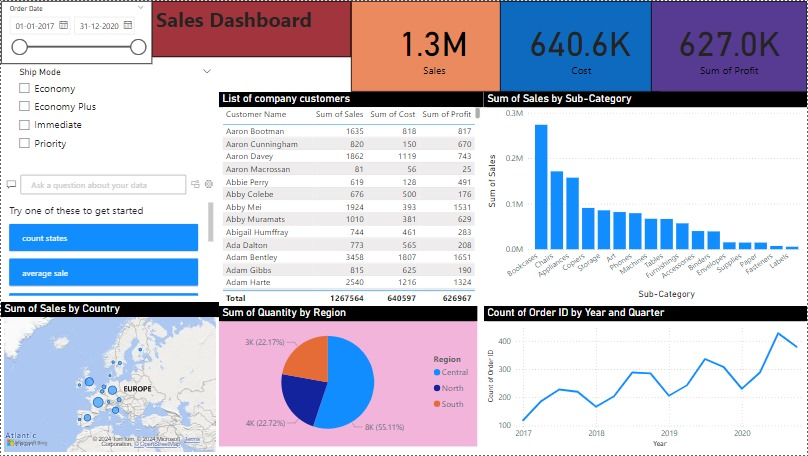

The page's visual inventory and layout, read from the dashboard file:
{"tool":"powerbi","page":{"name":"Page 1","canvas":[1280,720],"ordinal":0},"visuals":[{"type":"card","fields":{"Values":["List of Orders.Sales"]},"box":[556,0,260,144],"z":0},{"type":"card","fields":{"Values":["List of Orders.Cost"]},"box":[792,0,254,144],"z":1000},{"type":"card","fields":{"Values":["List of Orders.Profit"]},"box":[1032,0,248,144],"z":2000},{"type":"tableEx","title":"List of company customers","fields":{"Values":["List of Orders.Customer Name","List of Orders.Sales","List of Orders.Cost","List of Orders.Profit"]},"box":[345.6,144,420.5,339.8],"z":3000},{"type":"clusteredColumnChart","fields":{"Y":["List of Orders.Sales"],"Category":["List of Orders.Sub-Category"]},"box":[766.1,144,514.1,332.6],"z":4000},{"type":"lineChart","fields":{"Y":["List of Orders.Order ID"],"Category":["List of Orders.Order Date.Variation.Date Hierarchy.Year","List of Orders.Order Date.Variation.Date Hierarchy.Quarter"]},"box":[766.1,483.8,514.1,229],"z":5000},{"type":"pieChart","fields":{"Category":["List of Orders.Region"],"Y":["List of Orders.Quantity"]},"box":[345.6,483.8,410.4,223.2],"z":6000},{"type":"map","fields":{"Category":["List of Orders.Country"],"Size":["List of Orders.Sales"]},"box":[0,477.1,345.7,242.9],"z":7000},{"type":"textbox","box":[240,0,315.7,88.6],"z":8000},{"type":"slicer","fields":{"Values":["List of Orders.Ship Mode"]},"box":[15.8,99.4,329.8,182.9],"z":9000},{"type":"slicer","fields":{"Values":["List of Orders.Order Date"]},"box":[0,0,240,100],"z":10000},{"type":"qnaVisual","box":[0,250.6,345.6,226.1],"z":11000}]}

Visuals, with their boxes in screenshot pixels (x1, y1, x2, y2), scaled from the page's 1280x720 canvas onto the 808x456 screenshot:
card - List of Orders.Sales: [351, 0, 515, 91]
card - List of Orders.Cost: [500, 0, 660, 91]
card - List of Orders.Profit: [651, 0, 807, 91]
"List of company customers" tableEx: [218, 91, 484, 306]
clusteredColumnChart - List of Orders.Sales x List of Orders.Sub-Category: [484, 91, 807, 302]
lineChart - List of Orders.Order ID x List of Orders.Order Date.Variation.Date Hierarchy.Year: [484, 306, 807, 451]
pieChart - List of Orders.Region x List of Orders.Quantity: [218, 306, 477, 448]
map - List of Orders.Country x List of Orders.Sales: [0, 302, 218, 455]
textbox: [152, 0, 351, 56]
slicer - List of Orders.Ship Mode: [10, 63, 218, 179]
slicer - List of Orders.Order Date: [0, 0, 152, 63]
qnaVisual: [0, 159, 218, 302]
